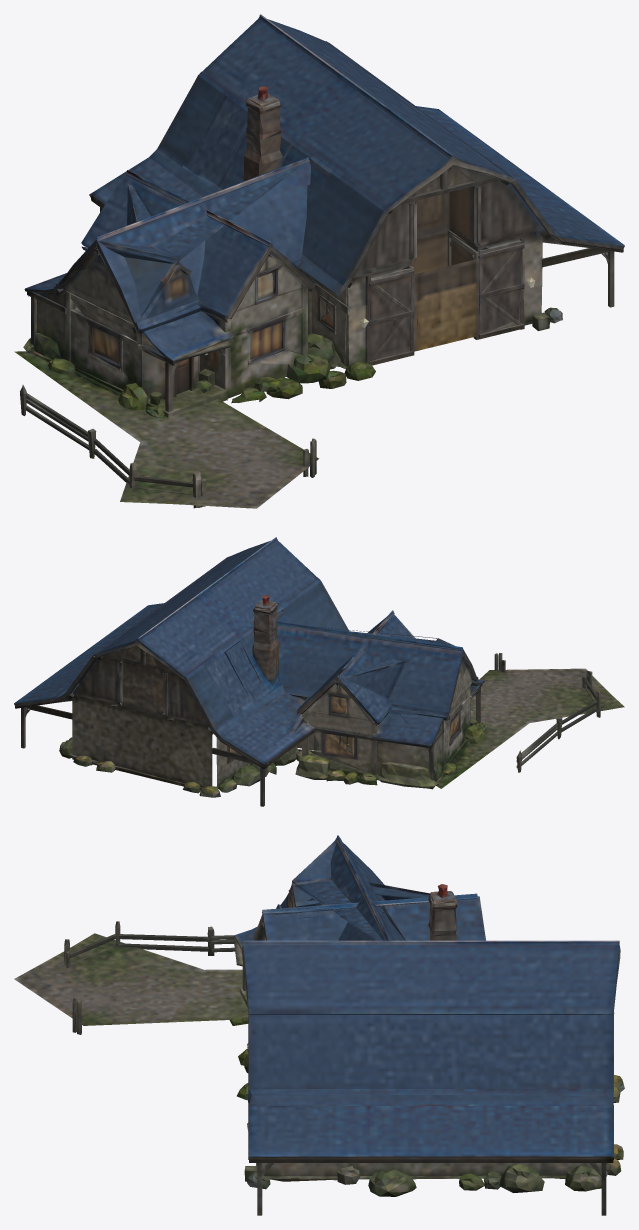
Rendered from farmstead_full_game_lod2.glb.
3 renders of one model, top to bottom at view 1: azimuth 30°, elevation 25°; view 2: azimuth 150°, elevation 25°; view 3: azimuth 270°, elevation 25°, orthographic. The views are drawn at different scales.
Parts seen in each view (by area): view 1: geometry_0; view 2: geometry_0; view 3: geometry_0.
Boxes of the visible parts, bbox=[...] form: geometry_0: bbox=[14, 14, 624, 508]; geometry_0: bbox=[14, 537, 624, 806]; geometry_0: bbox=[14, 835, 624, 1215].
Bounding box in the file's own units: 39.98 × 14.5 × 37.
Materials: 1 (1 with a texture image).
